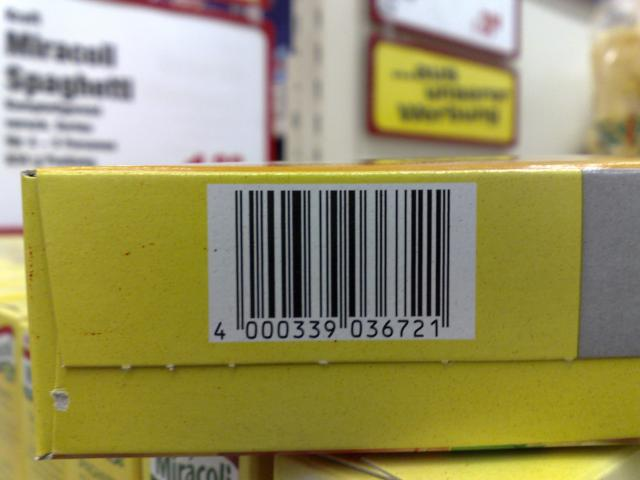Barkod: (232, 186, 453, 318)
